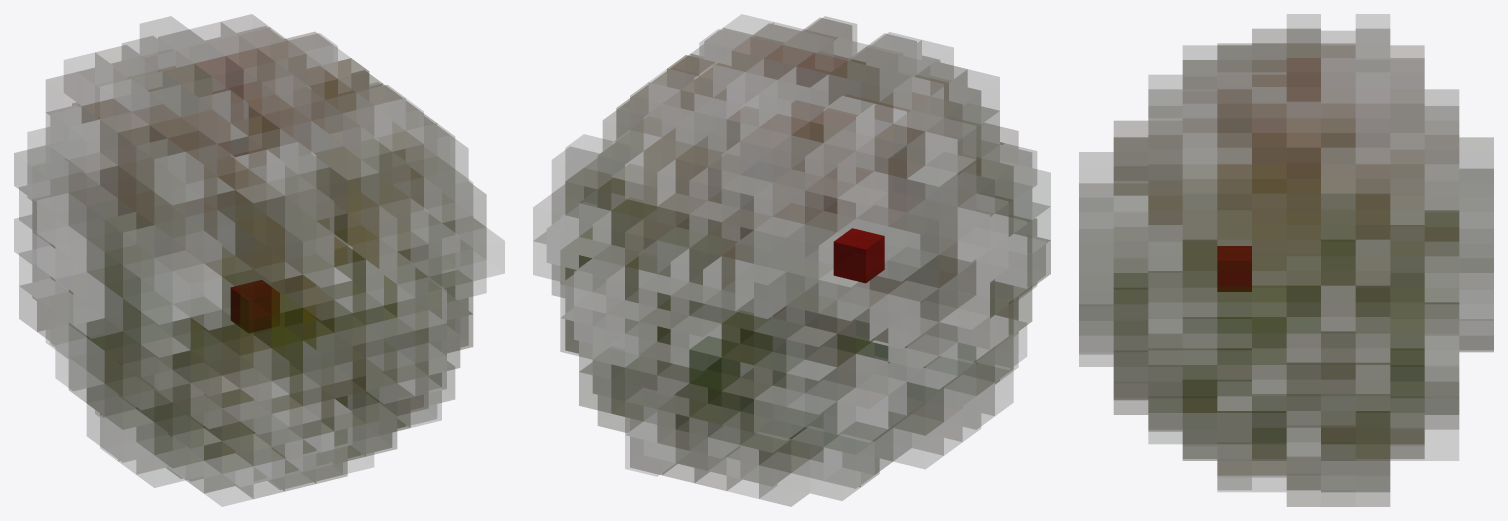
The model's file is iter_15.obj.
The picture shows the model from 3 angles, left to right: view 1: azimuth 30°, elevation 25°; view 2: azimuth 150°, elevation 25°; view 3: azimuth 270°, elevation 25°; orthographic projection. The views are drawn at different scales.
Visible parts, largest first — view 1: iter_15; view 2: iter_15; view 3: iter_15.
Part boxes in pixels (left/top/right/bottom): iter_15: left=14, top=14, right=504, bottom=506; iter_15: left=533, top=15, right=1050, bottom=506; iter_15: left=1079, top=14, right=1493, bottom=506.
Size of the model in its own units: 1.3 by 1.2 by 1.2.
